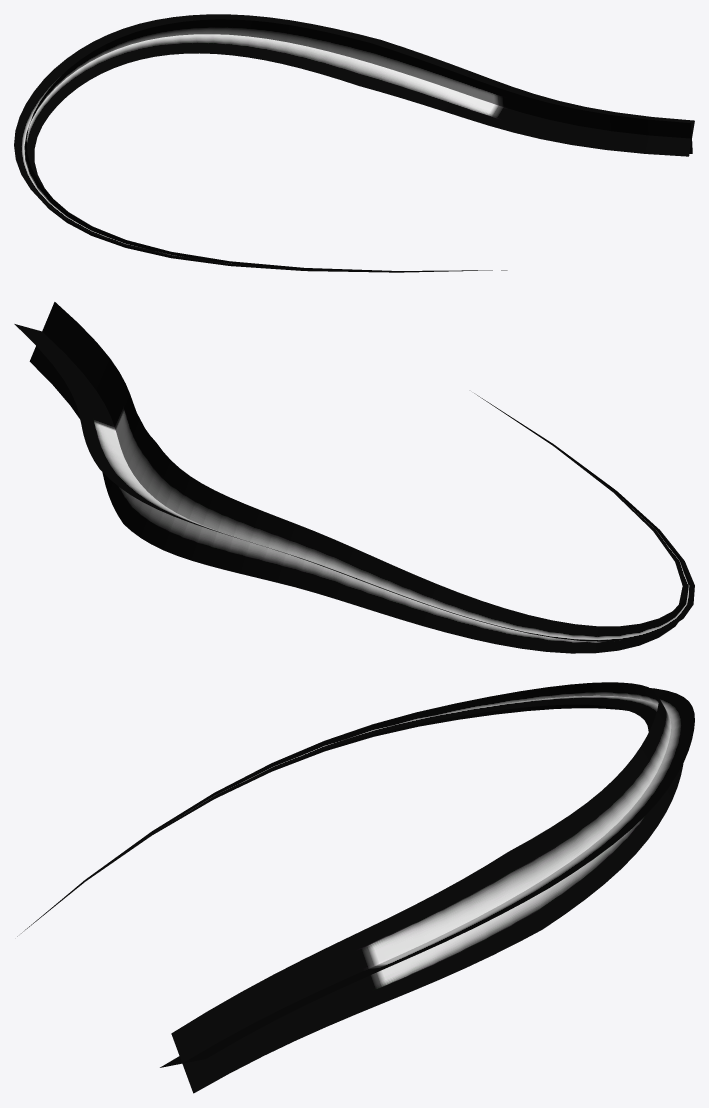
File: TypeZero4.fbx
3 renders of one model, top to bottom at view 1: azimuth 30°, elevation 25°; view 2: azimuth 150°, elevation 25°; view 3: azimuth 270°, elevation 25°, orthographic. The views are drawn at different scales.
Parts seen in each view (by area): view 1: SM_WEP_Eff_D61NJ1_A_04.mo; view 2: SM_WEP_Eff_D61NJ1_A_04.mo; view 3: SM_WEP_Eff_D61NJ1_A_04.mo.
Boxes of the visible parts, x1,y1,x2,y2 form: SM_WEP_Eff_D61NJ1_A_04.mo: (14,14,694,272); SM_WEP_Eff_D61NJ1_A_04.mo: (14,302,694,653); SM_WEP_Eff_D61NJ1_A_04.mo: (17,682,694,1093).
Size of the model in its own units: 1015 by 178 by 785.
